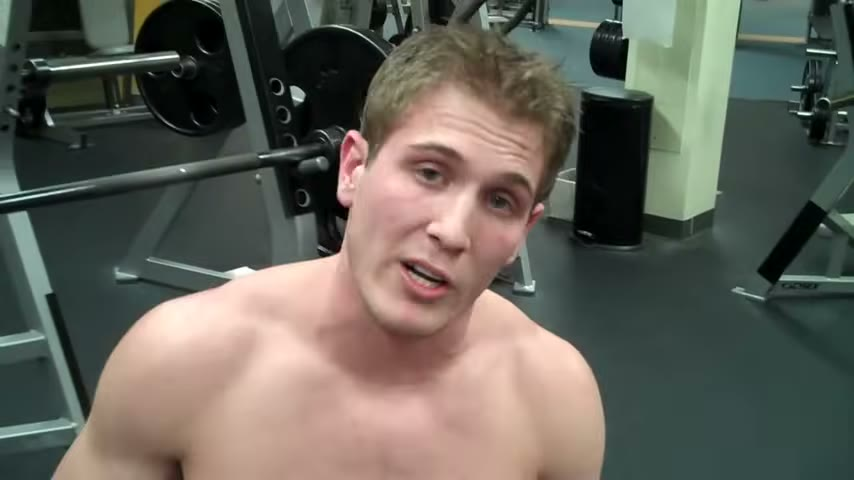barbell_plate_side: (85, 0, 202, 341)
